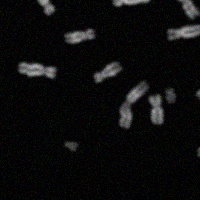chromosome: (117, 79, 148, 128), (17, 61, 57, 80), (166, 23, 200, 43), (93, 60, 120, 83), (171, 0, 200, 20), (149, 93, 164, 125), (65, 28, 94, 43), (112, 0, 151, 9), (34, 0, 55, 16), (164, 88, 177, 103), (196, 72, 200, 102), (196, 135, 200, 159)
